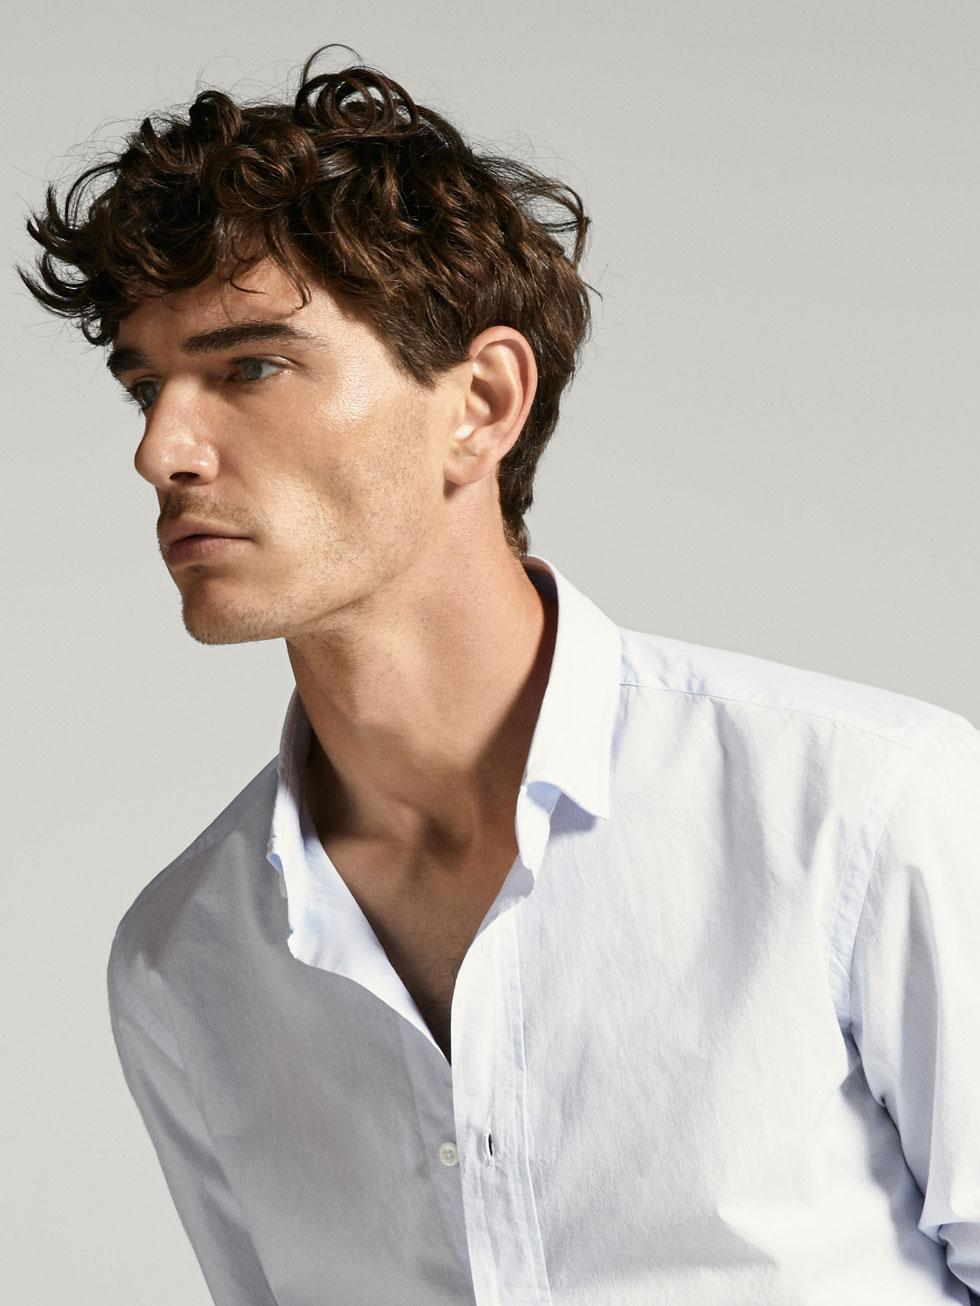teeshirt: (91, 553, 977, 1306)
